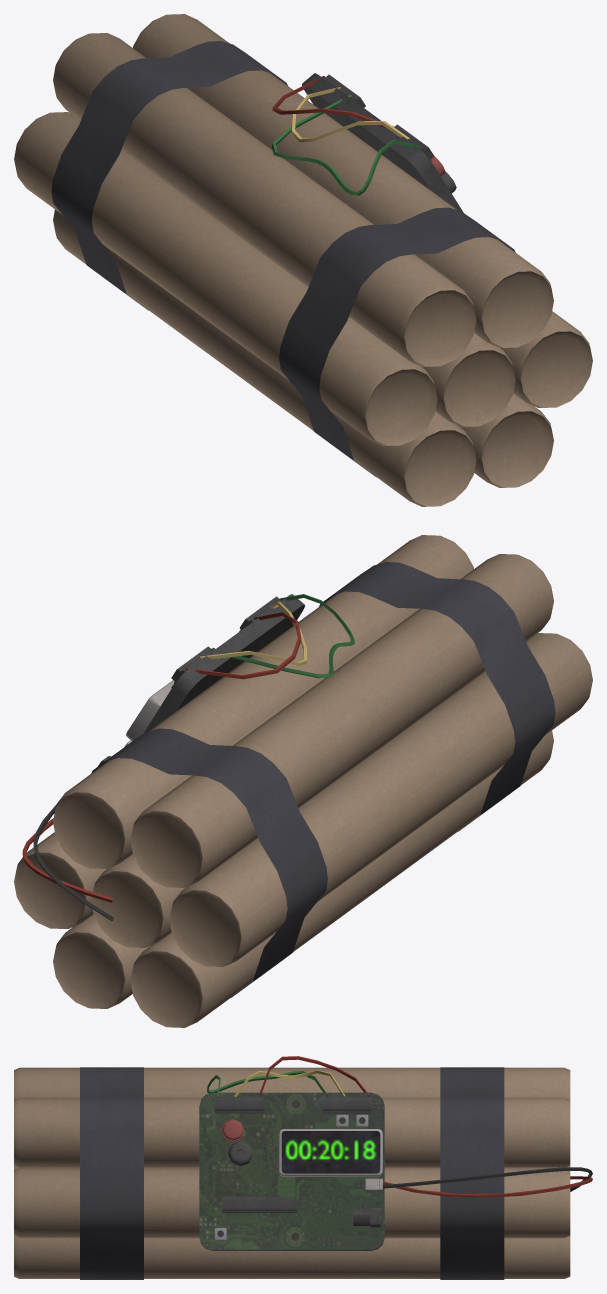
File: simple_c4-_bomb.glb
3 renders of one model, top to bottom at view 1: azimuth 30°, elevation 25°; view 2: azimuth 150°, elevation 25°; view 3: azimuth 270°, elevation 25°, orthographic. The views are drawn at different scales.
Visible parts, largest first — view 1: Object_2; view 2: Object_2; view 3: Object_2.
Boxes of the visible parts, bbox=[...] form: Object_2: bbox=[14, 14, 592, 506]; Object_2: bbox=[14, 535, 592, 1027]; Object_2: bbox=[14, 1056, 592, 1279].
Bounding box in the file's own units: 2.85 × 2.64 × 6.64.
Materials: 1 (1 with a texture image).
